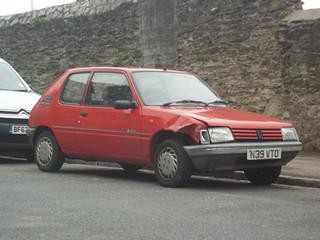fender-dent: (136, 109, 204, 143)
